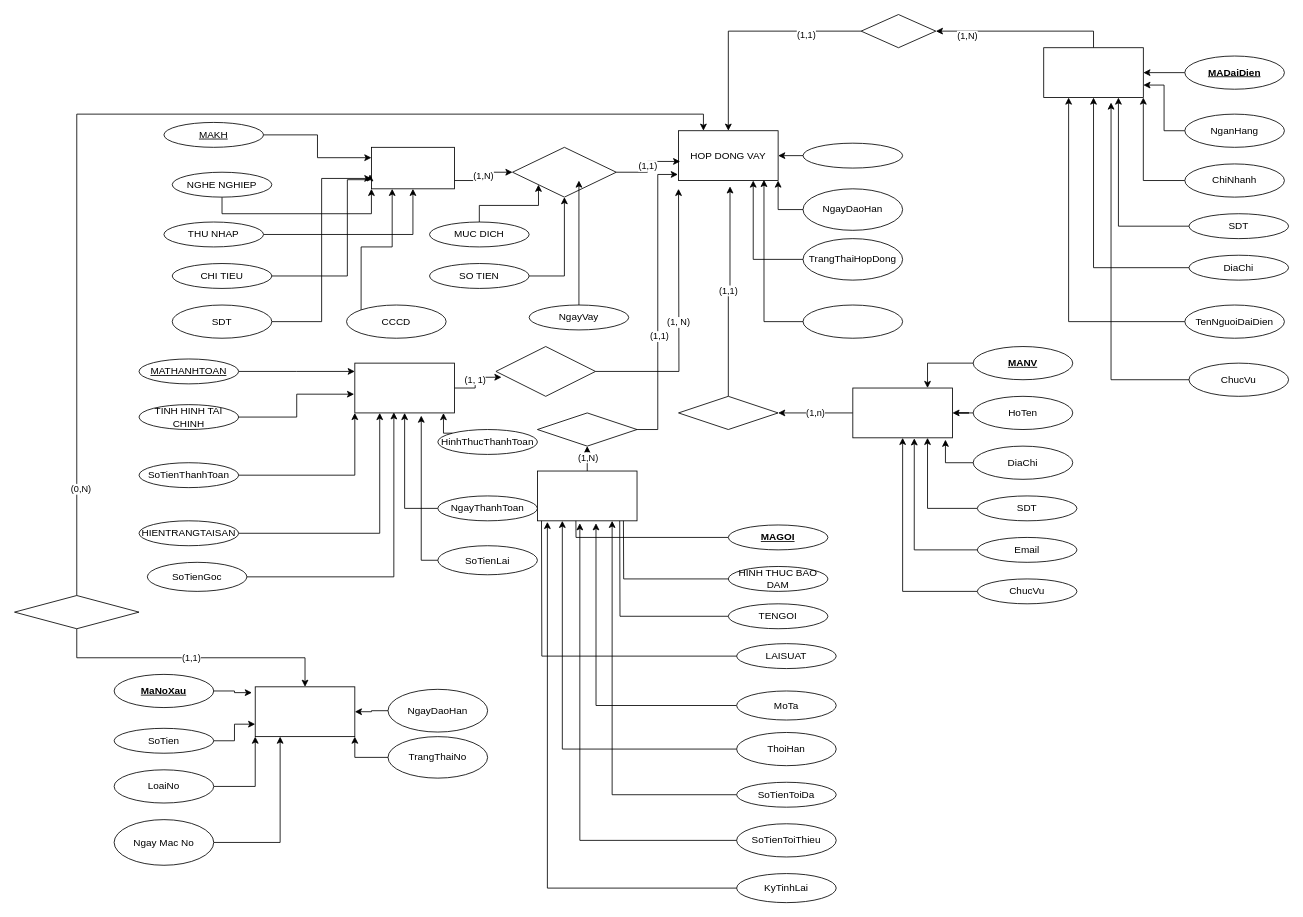
Some shapes in this 1303 by 917 pixel diagram are drawn without their labels. The shapes that lost their labels are listed below. From the top down, each one's centre as x and y in pixels, then its label:
(898,31): CHOVAY
(1093,72): DAIDIENCHOVAY
(412,167): KHACH HANG
(564,171): VAY
(852,155): MAHD
(852,321): HinhThucVay
(404,387): THONG TIN THANH TOAN
(545,371): THANH TOAN
(587,429): Thuộc
(728,412): TU VAN
(902,412): NHANVIEN
(587,495): GoiVay
(76,612): Thuoc
(304,711): NoXau
